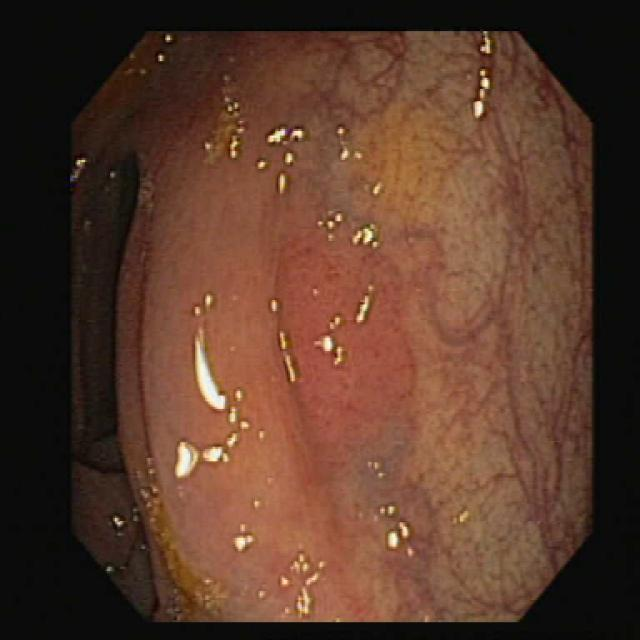tumor: (278, 244, 415, 478)
